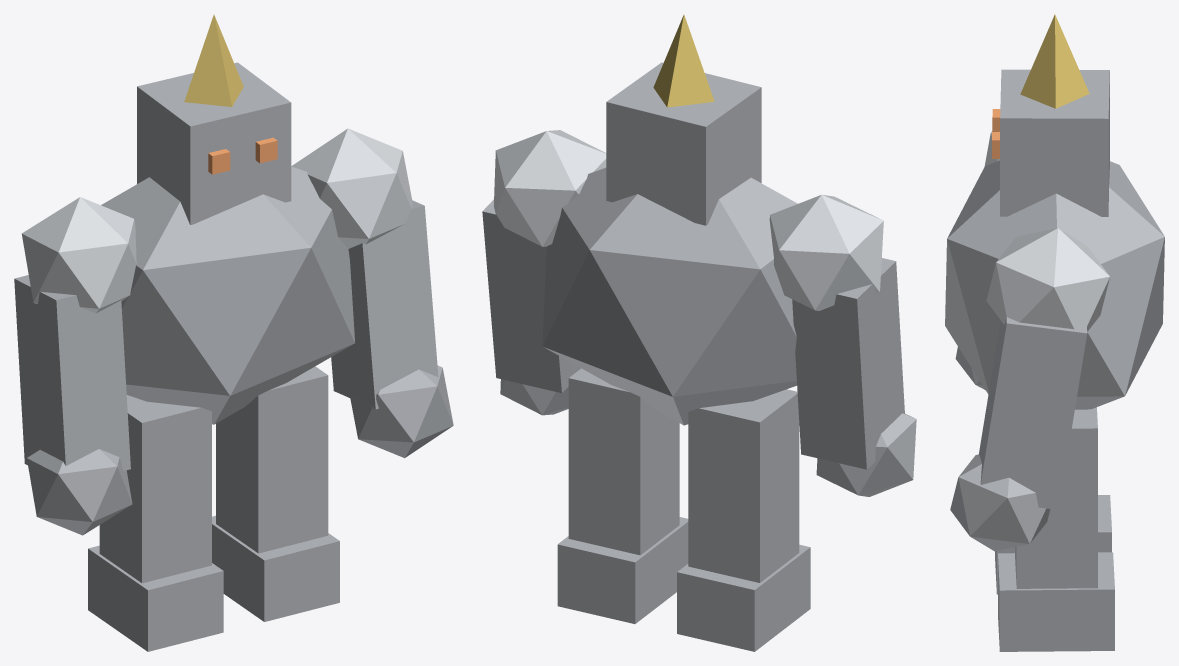
The model's file is npcpose_golem_idle_02.glb.
3 renders of one model, left to right at view 1: azimuth 30°, elevation 25°; view 2: azimuth 150°, elevation 25°; view 3: azimuth 270°, elevation 25°, orthographic.
Parts seen in each view (by area): view 1: npcpose; view 2: npcpose; view 3: npcpose.
Boxes of the visible parts, bbox=[...] form: npcpose: bbox=[14, 14, 453, 651]; npcpose: bbox=[482, 14, 916, 651]; npcpose: bbox=[945, 14, 1164, 651].
Bounding box in the file's own units: 1.38 × 1.92 × 0.649.
